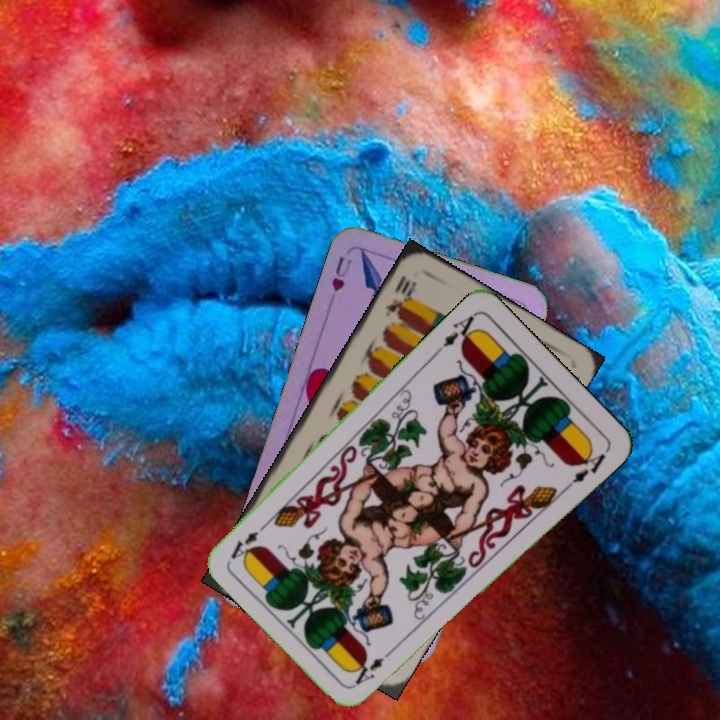E10: (381, 271, 420, 321)
EA: (432, 309, 482, 356), (351, 643, 398, 688)
HU: (327, 252, 355, 295)
